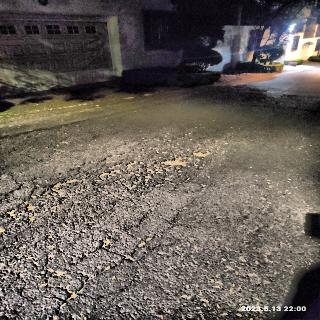alligator-crack: (0, 130, 225, 304)
